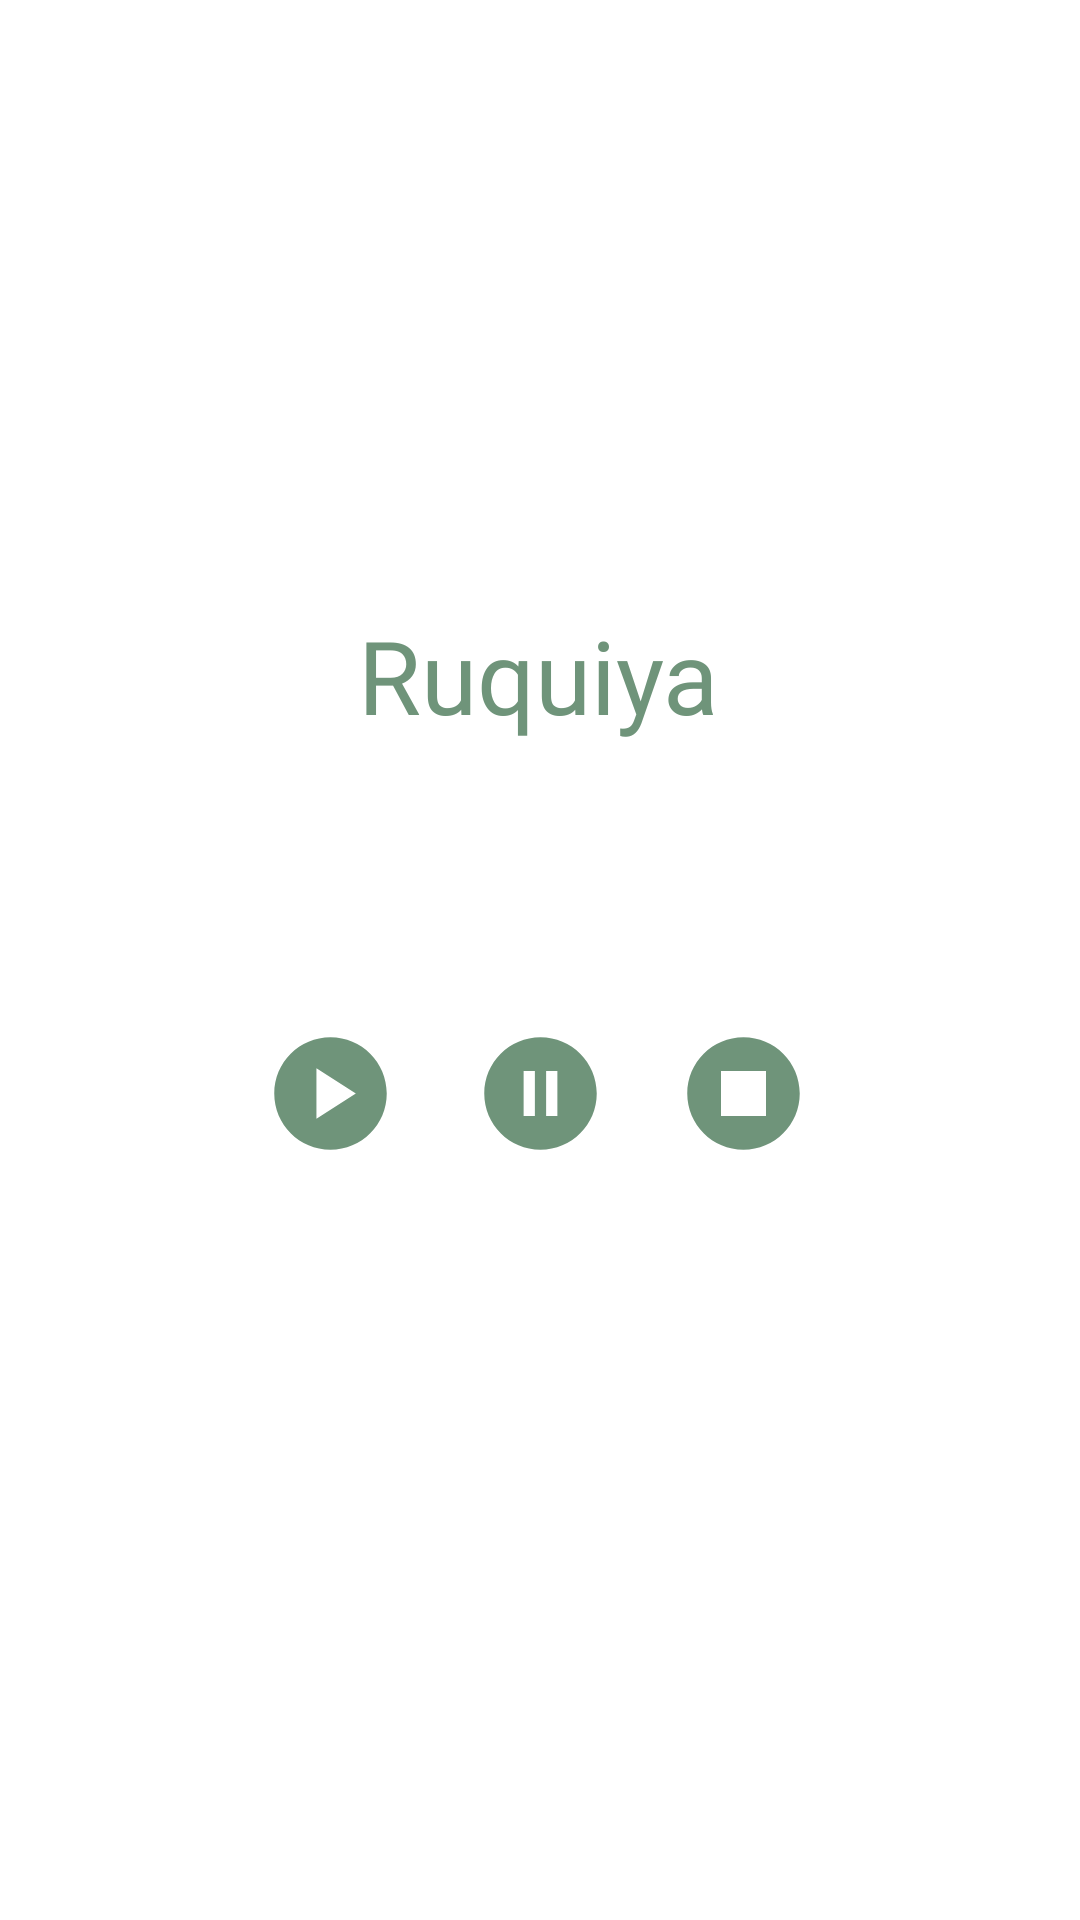

Named icons in this screenshot (1080 x 1920) and their centers, (x=x, y=y):
Pause: (x=540, y=1093)
Play: (x=330, y=1093)
Stop: (x=743, y=1093)
